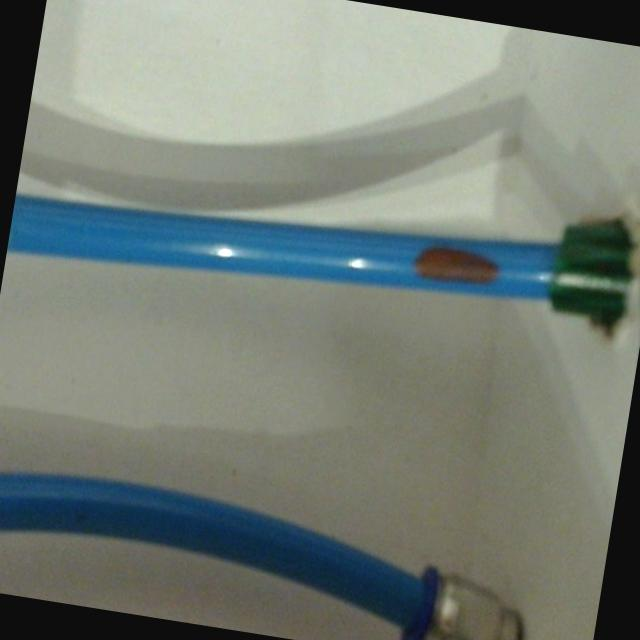hose_damage: (402, 230, 516, 302)
